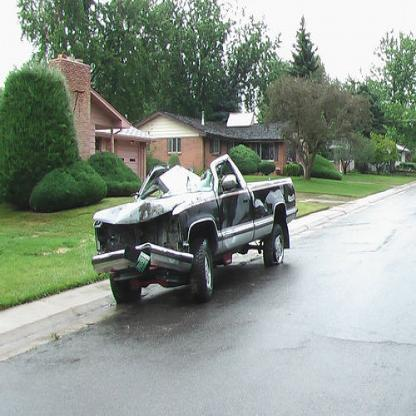car: (90, 153, 300, 311)
